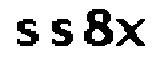8: (83, 7, 114, 50)
s: (12, 17, 41, 49), (48, 18, 74, 48)
x: (116, 17, 146, 48)
